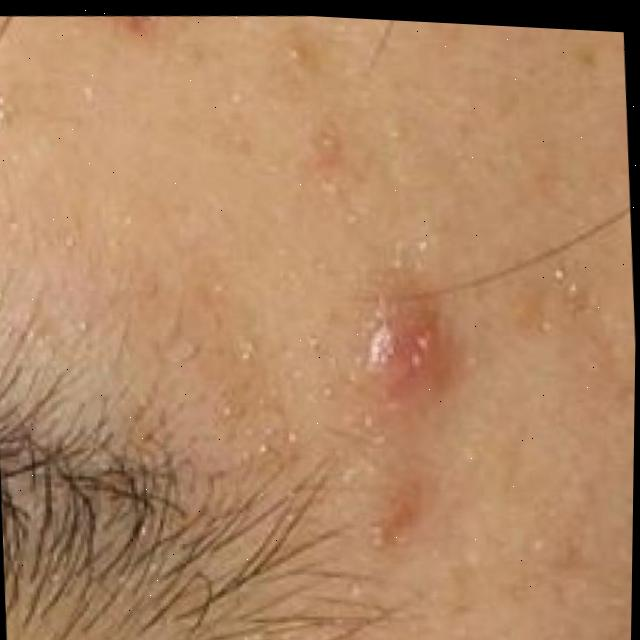Acne: (370, 303, 442, 378), (106, 13, 172, 47)
